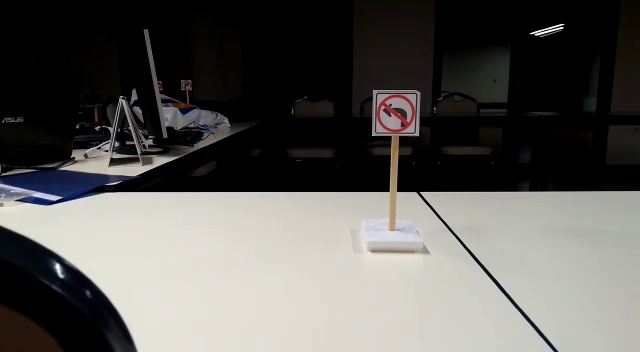sola_donulmez: (377, 92, 419, 132)
